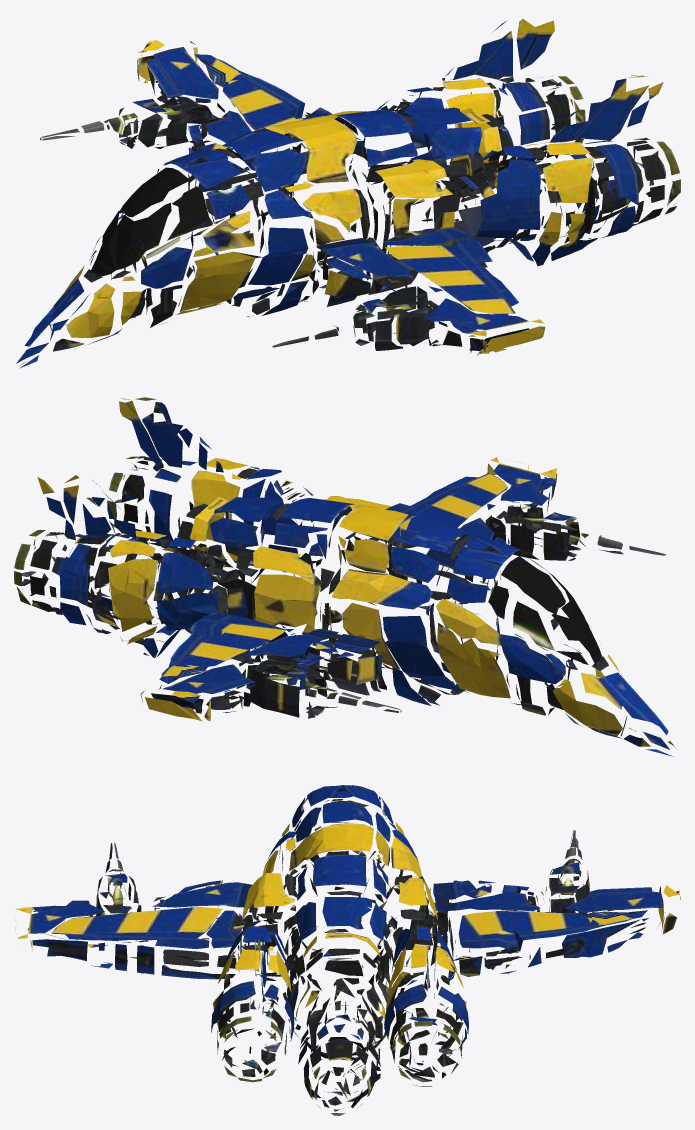
3 renders of one model, top to bottom at view 1: azimuth 30°, elevation 25°; view 2: azimuth 150°, elevation 25°; view 3: azimuth 270°, elevation 25°, orthographic. The views are drawn at different scales.
Size of the model in its own units: 1.86 by 0.5583 by 1.9.
Materials: 1 (1 with a texture image).
